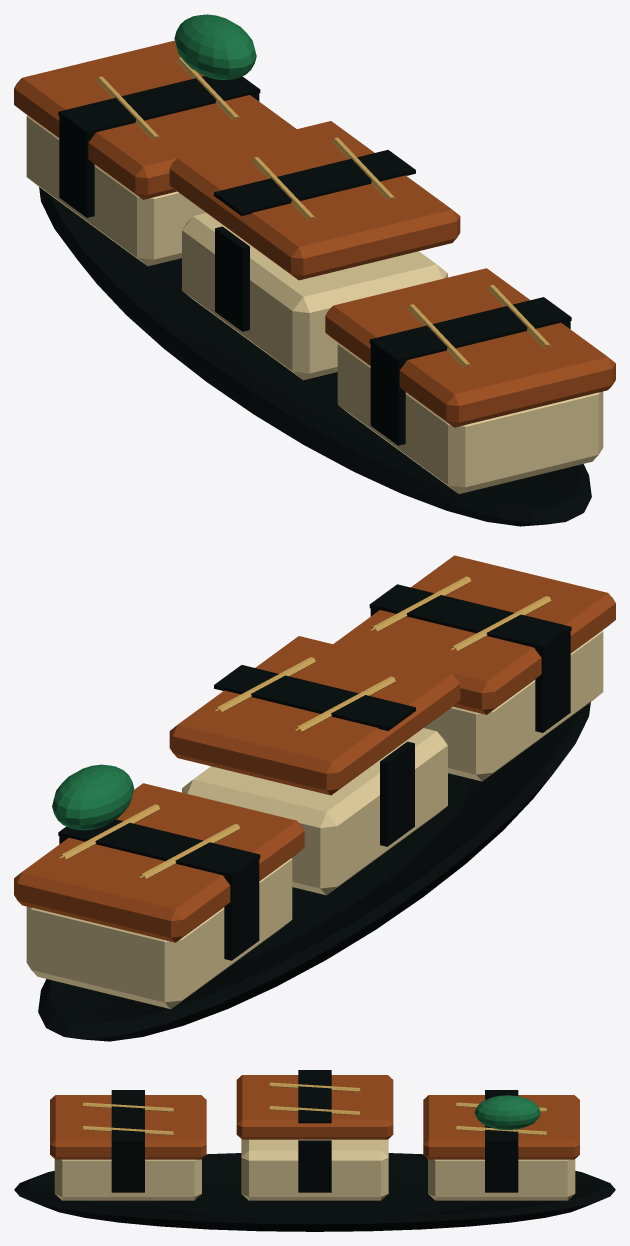
File: panel_r5_restaurant_chair_food.fbx
3 views of the same model, one above another, from view 1: azimuth 30°, elevation 25°; view 2: azimuth 150°, elevation 25°; view 3: azimuth 270°, elevation 25° (orthographic). The views are drawn at different scales.
Visible parts, largest first — view 1: Part_0; view 2: Part_0; view 3: Part_0.
Boxes of the visible parts, bbox=[...] form: Part_0: bbox=[14, 14, 615, 526]; Part_0: bbox=[14, 555, 615, 1041]; Part_0: bbox=[14, 1070, 615, 1231].
Bounding box in the file's own units: 0.65 × 0.55 × 2.4.
